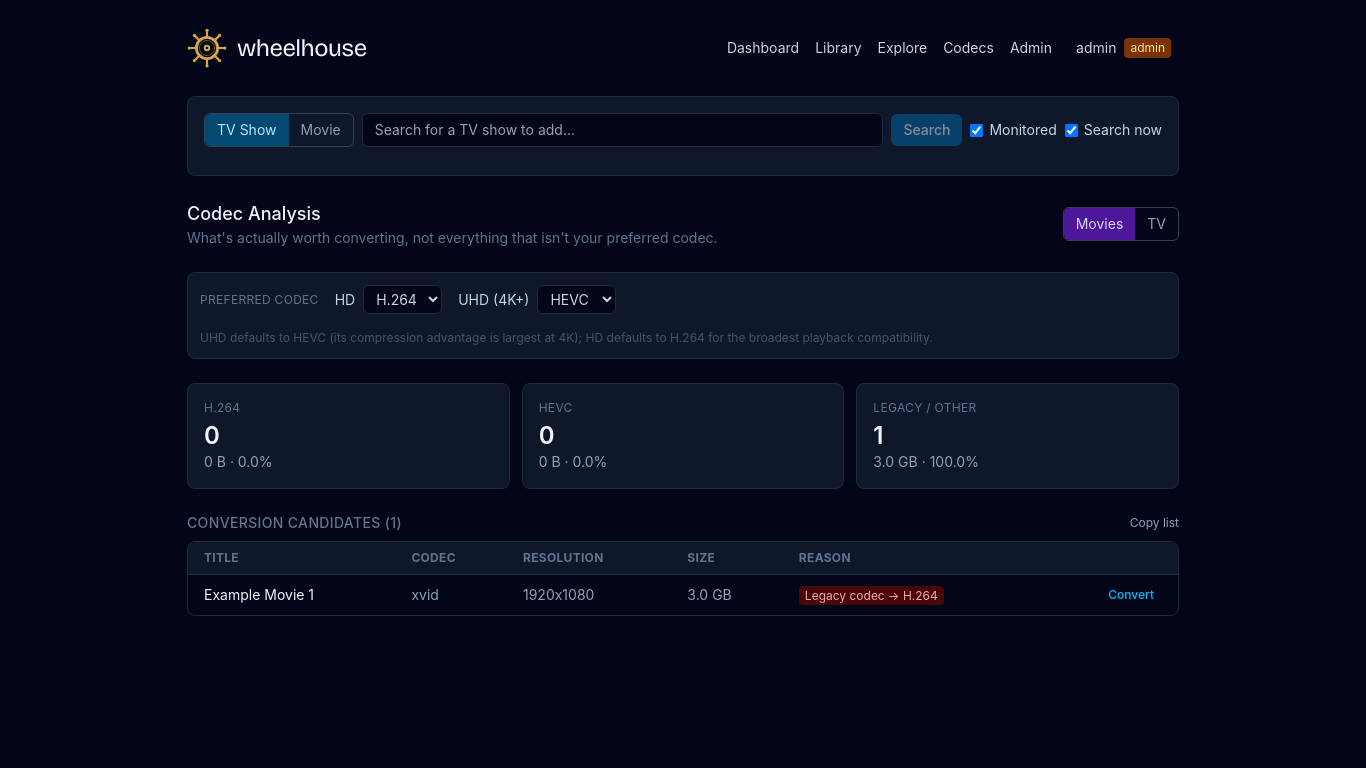
Test: Codecs › asks before converting a hard-linked file, then sends the acknowledgement
This screenshot has width=1366, height=768.
Click the button "Convert": (1131, 595) [1100,583,1162,607]
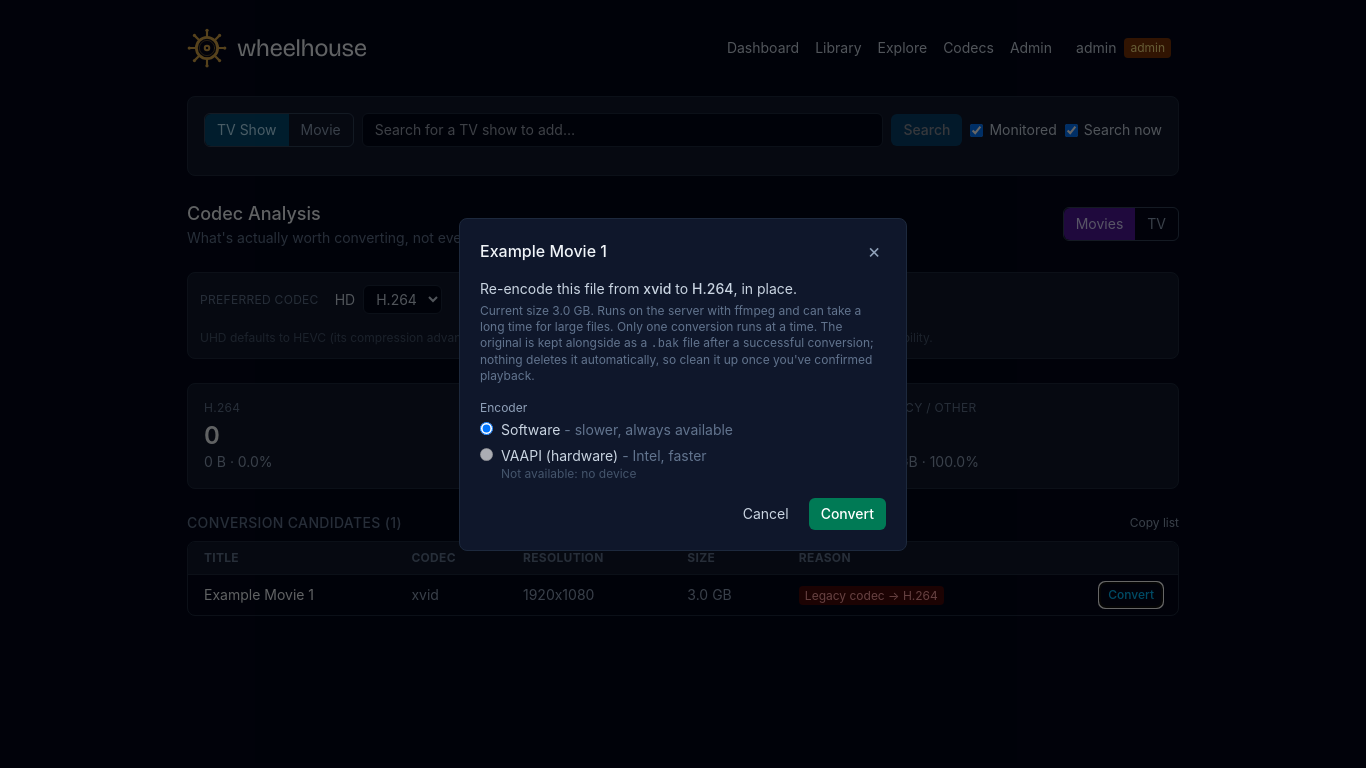
Click the button "Convert": (847, 514) [809,498,886,530]
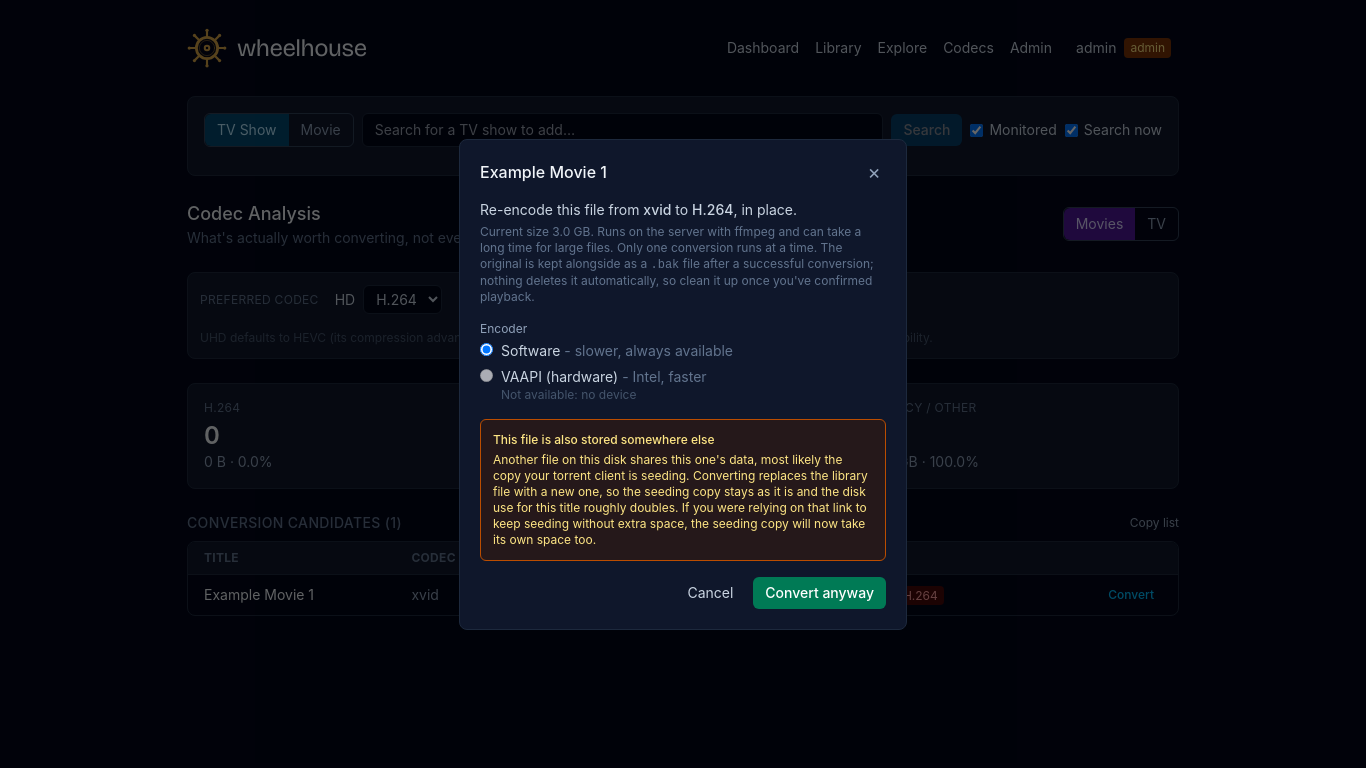
Now the message shows "This file is also stored somewhere else", box [493,432,714,446]
Click the button "Convert anyway": (820, 592) [753,576,886,608]
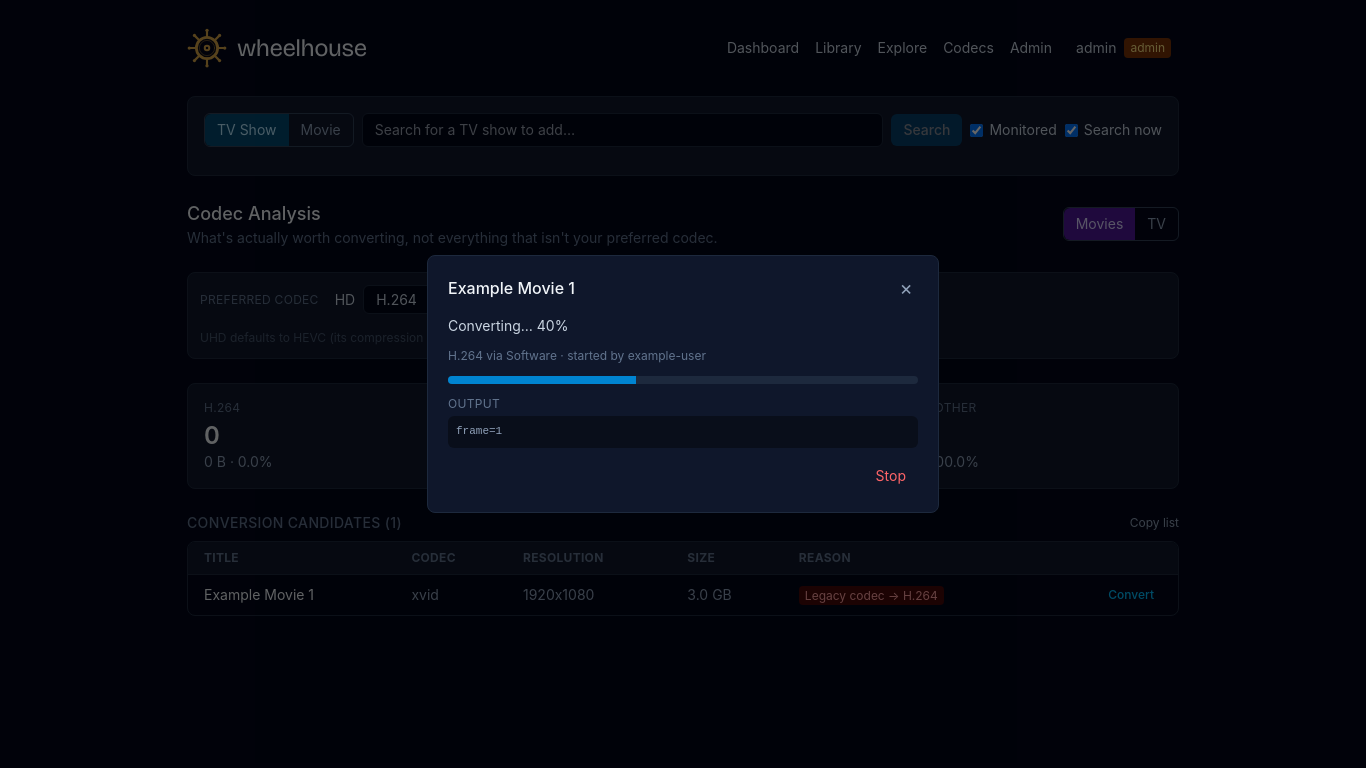
Now the text "Converting… 40%" is shown, box [448,317,568,334]
